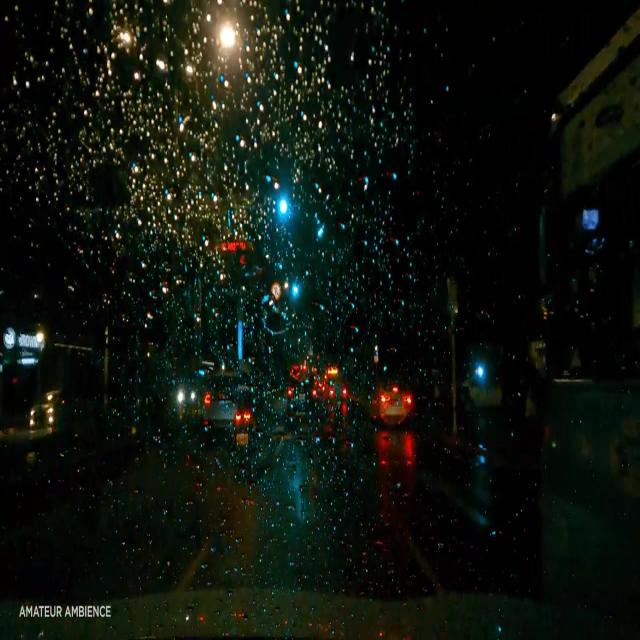Car: (546, 16, 639, 599), (199, 374, 252, 425), (370, 374, 415, 427), (27, 383, 60, 431), (288, 372, 319, 419)
